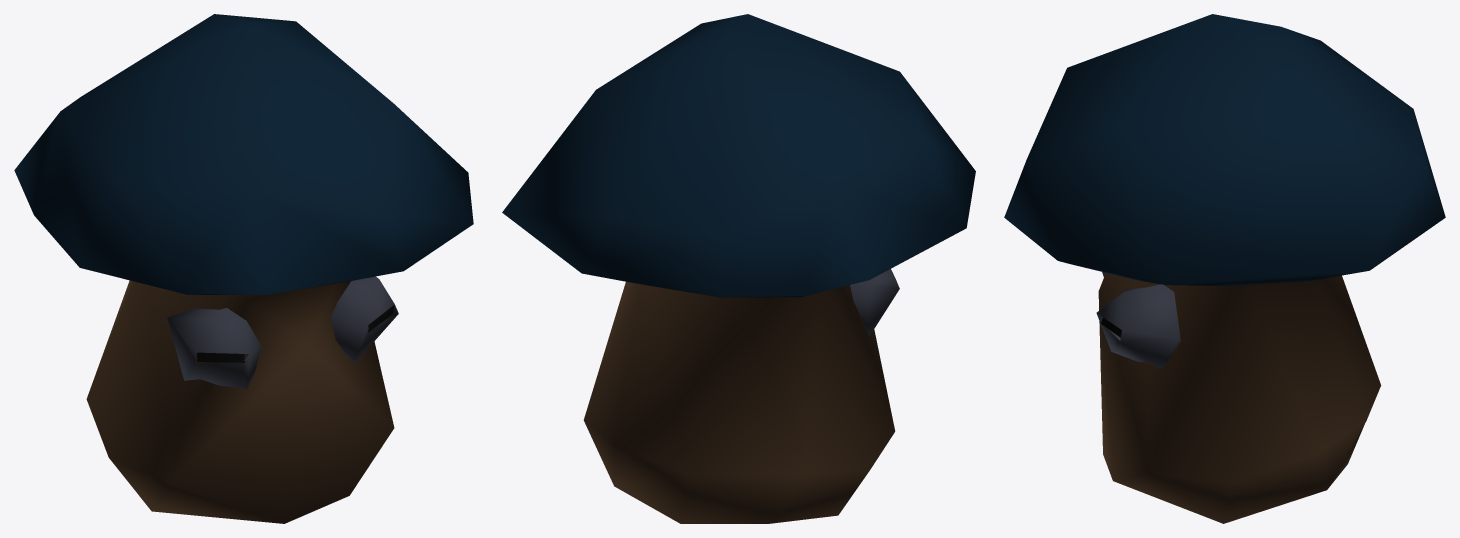
The model's file is mushnub.aggregate.glb.
3 renders of one model, left to right at view 1: azimuth 30°, elevation 25°; view 2: azimuth 150°, elevation 25°; view 3: azimuth 270°, elevation 25°, orthographic.
Parts seen in each view (by area): view 1: HordeReadyRigidMesh; view 2: HordeReadyRigidMesh; view 3: HordeReadyRigidMesh.
Part boxes in pixels (bbox=[...]): HordeReadyRigidMesh: bbox=[14, 14, 473, 523]; HordeReadyRigidMesh: bbox=[502, 14, 975, 523]; HordeReadyRigidMesh: bbox=[1004, 14, 1445, 523].
Bounding box in the file's own units: 1.01 × 1.24 × 1.
